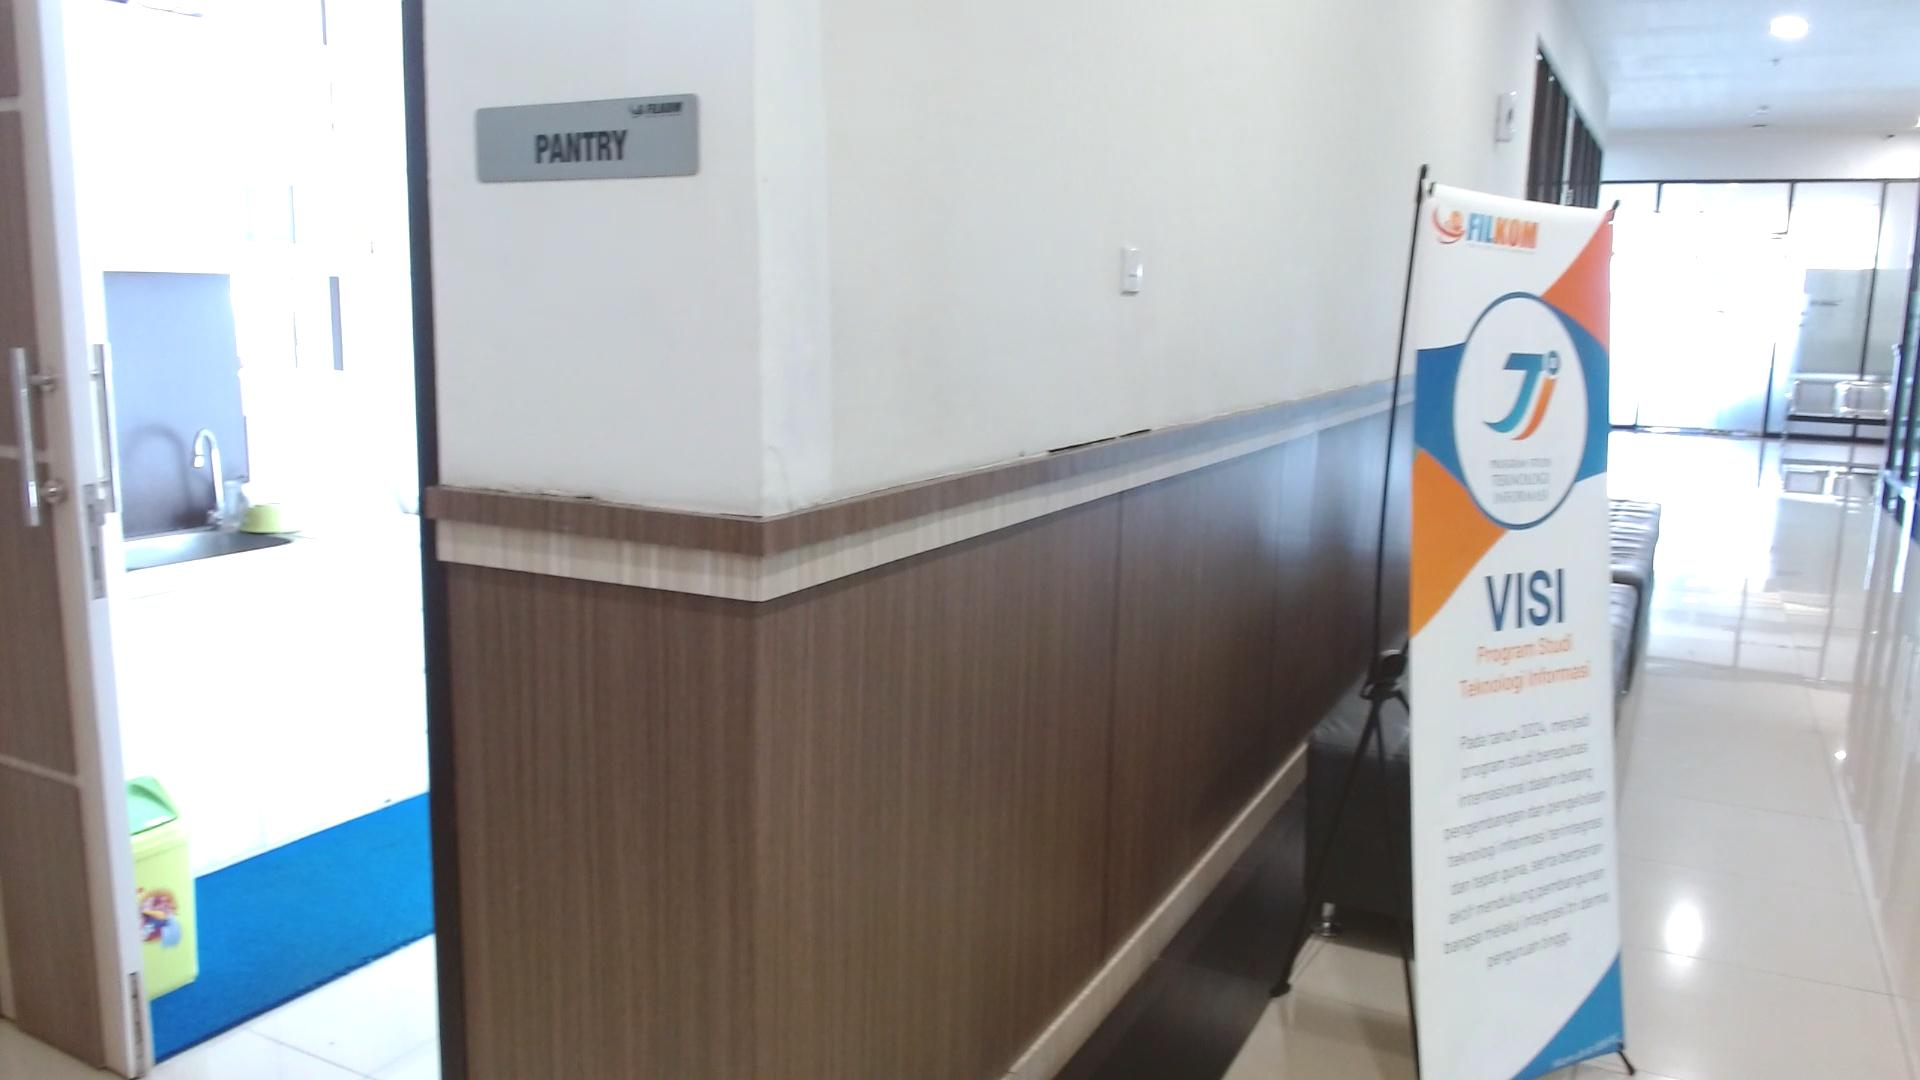plate: (473, 94, 699, 183)
